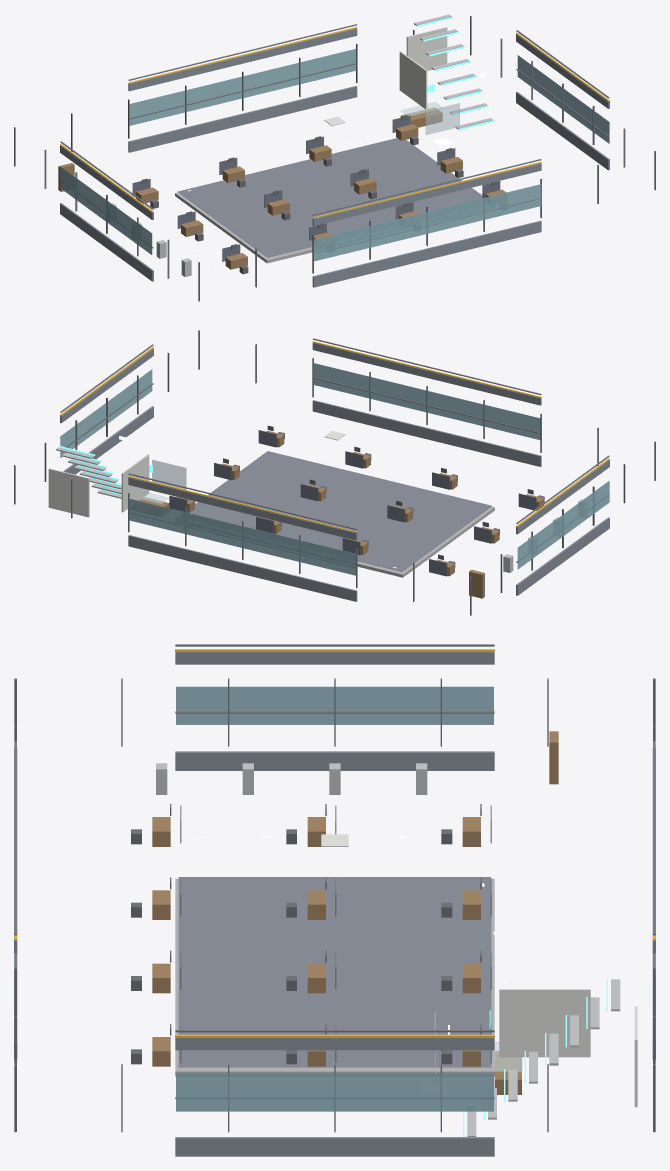
Rendered from Floor_03_Office.fbx.
3 views of the same model, one above another, from view 1: azimuth 30°, elevation 25°; view 2: azimuth 150°, elevation 25°; view 3: azimuth 270°, elevation 25° (orthographic). The views are drawn at different scales.
Parts seen in each view (by area): view 1: Floor_03_Office; view 2: Floor_03_Office; view 3: Floor_03_Office.
Boxes of the visible parts, box(x1,y1,x2,y2) form: Floor_03_Office: box(14, 14, 655, 301); Floor_03_Office: box(14, 330, 655, 615); Floor_03_Office: box(14, 644, 655, 1156).
Size of the model in its own units: 2007 by 345 by 1407.
